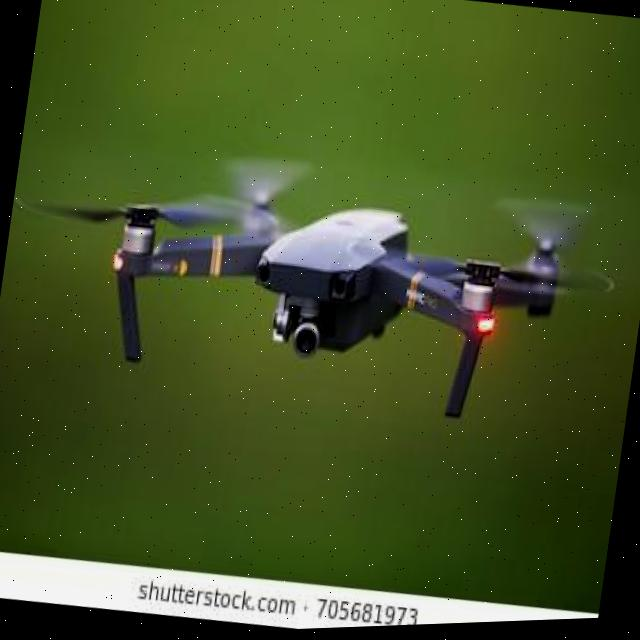drone: (0, 83, 640, 480)
